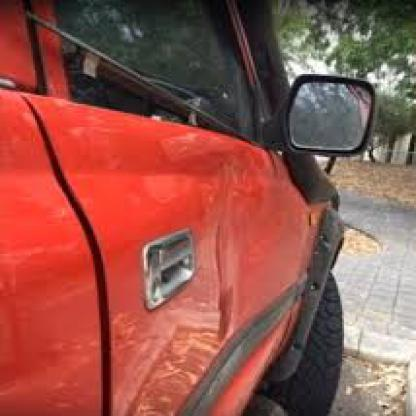dent: (199, 202, 236, 352)
